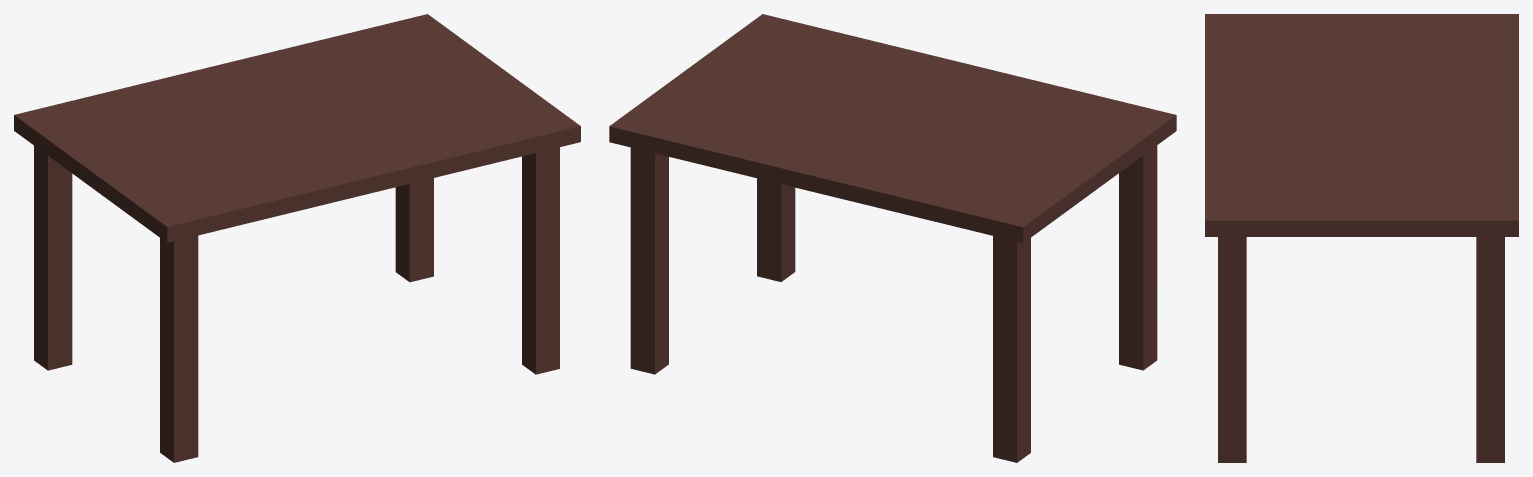
Rendered from Table.fbx.
3 views of the same model, side by side, from view 1: azimuth 30°, elevation 25°; view 2: azimuth 150°, elevation 25°; view 3: azimuth 270°, elevation 25° (orthographic). The views are drawn at different scales.
Visible parts, largest first — view 1: RestaurantTable.003; view 2: RestaurantTable.003; view 3: RestaurantTable.003.
Part boxes in pixels (x1,y1,x2,y2): RestaurantTable.003: (14, 14, 580, 462); RestaurantTable.003: (609, 14, 1176, 462); RestaurantTable.003: (1205, 14, 1518, 462).
Bounding box in the file's own units: 107 × 60.02 × 68.43.
